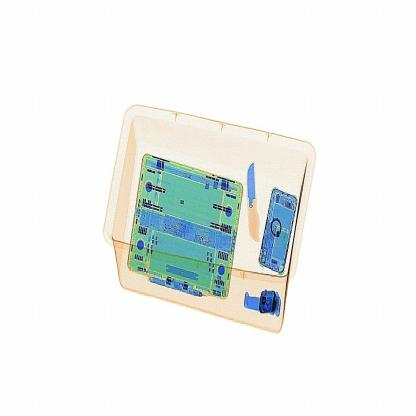wrench: (231, 148, 270, 258)
